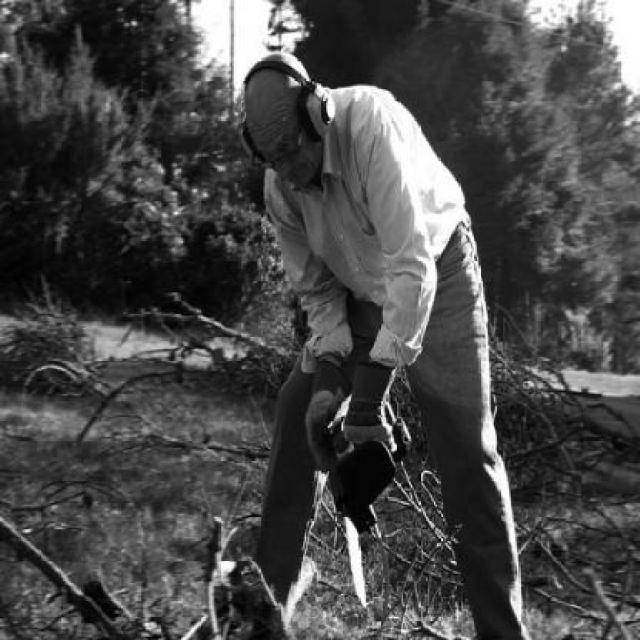Chainsaw: (327, 390, 411, 608)
